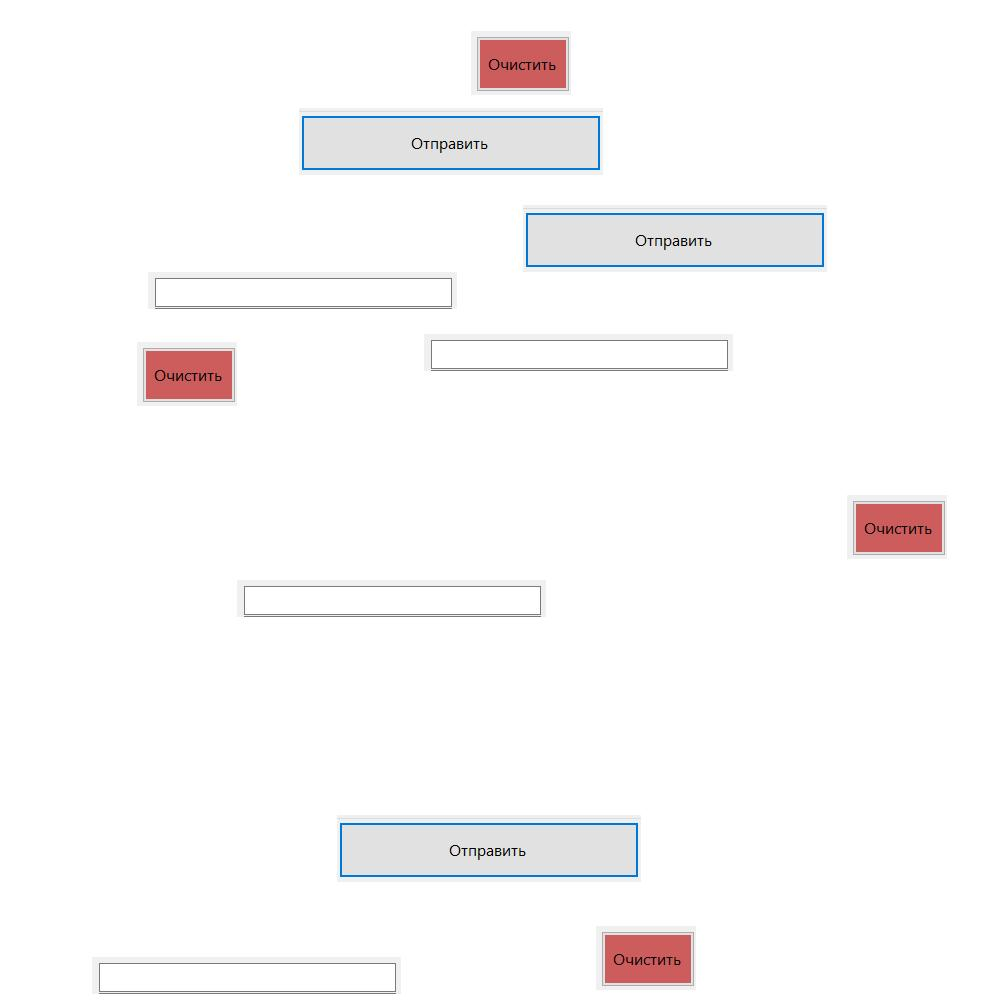Button: (523, 205, 827, 272), (299, 108, 603, 175), (337, 815, 641, 882), (596, 926, 696, 990), (137, 342, 237, 406), (471, 31, 571, 95), (847, 495, 947, 559)
EditText-: (148, 272, 457, 309), (237, 580, 546, 617), (92, 957, 401, 994), (424, 334, 733, 371)
